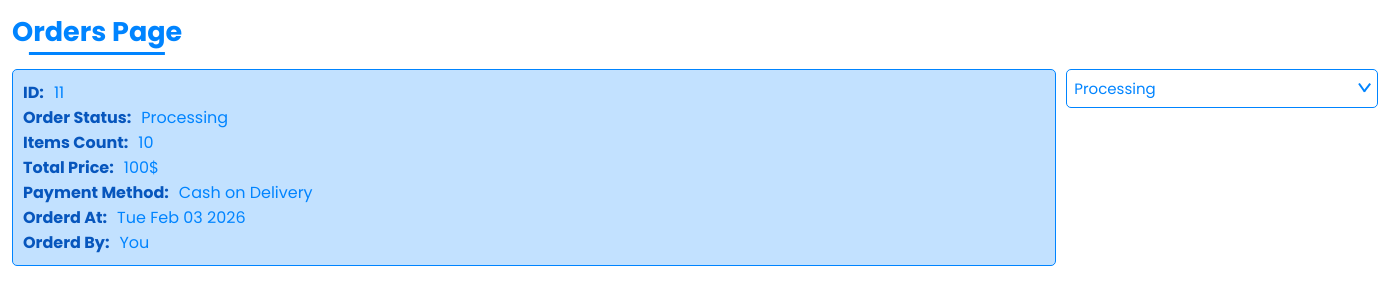
Scenario: Orders Page › should change order status when click on status list item in dashboard
This screenshot has width=1390, height=283.
expect the text "Processing" next to "Order Status" is shown: met, box [141, 106, 228, 129]
Click the 1st button titled "toggle list btn" at (1115, 88), box [1066, 69, 1378, 108]
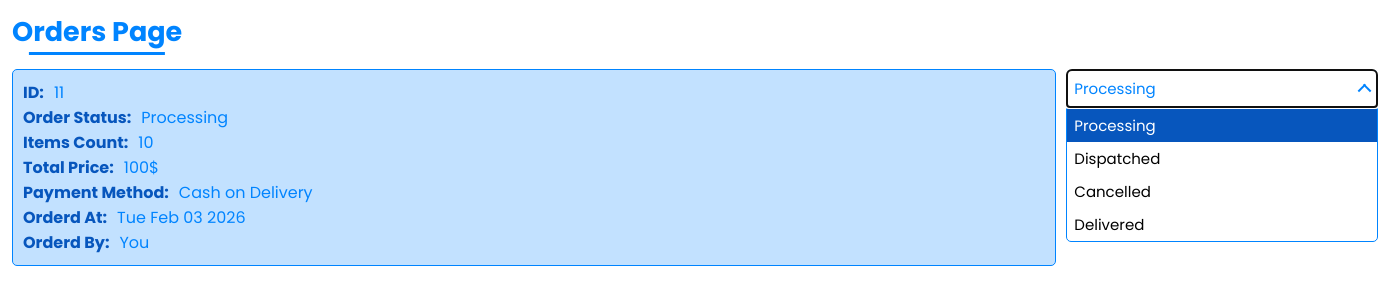
Click the button "Dispatched" at (1117, 158), box [1067, 142, 1377, 175]
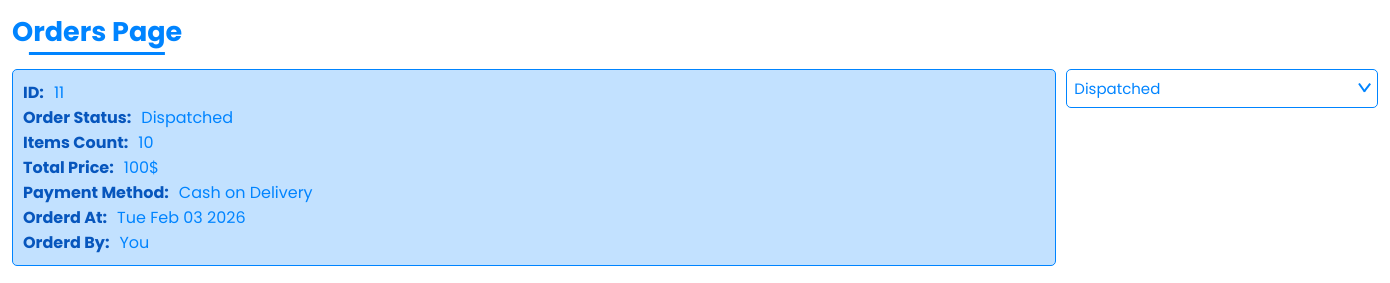
expect the text "Dispatched" next to "Order Status" is shown: met, box [141, 106, 233, 129]
